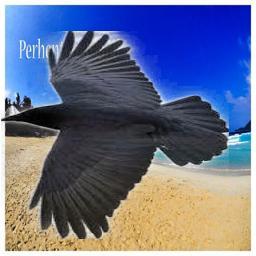Crow: (1, 31, 229, 239)
